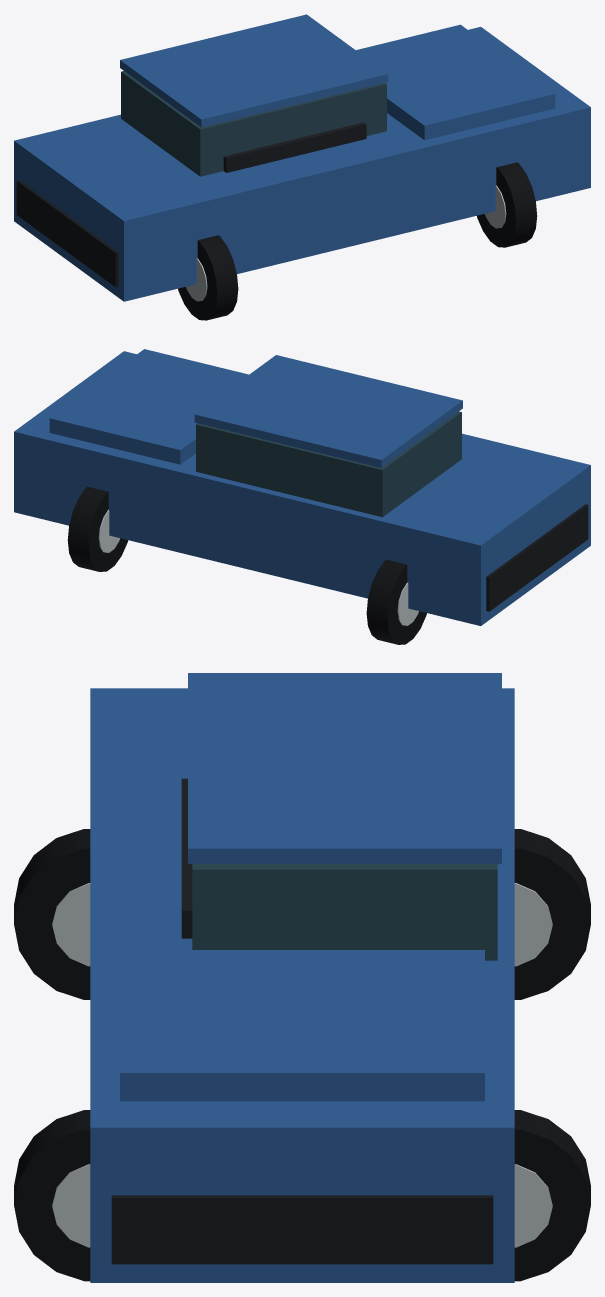
File: ford_bronco.glb
The picture shows the model from 3 angles, top to bottom: view 1: azimuth 30°, elevation 25°; view 2: azimuth 150°, elevation 25°; view 3: azimuth 270°, elevation 25°; orthographic projection. The views are drawn at different scales.
Visible parts, largest first — view 1: body, roof, hood, cabin, rear_bumper, rear_right_wheel, front_right_wheel, interior; view 2: body, roof, cabin, hood, rear_bumper, rear_left_wheel, front_left_wheel; view 3: body, roof, hood, front_bumper, cabin, front_left_wheel, front_right_wheel, rear_left_wheel, rear_right_wheel, interior.
Boxes of the visible parts, x1,y1,x2,y2 form: body: (14, 27, 590, 301); roof: (120, 14, 388, 127); hood: (356, 24, 555, 140); cabin: (121, 71, 386, 176); rear_bumper: (16, 180, 118, 287); rear_right_wheel: (178, 235, 238, 320); front_right_wheel: (477, 162, 537, 247); interior: (223, 122, 366, 172); body: (14, 351, 590, 625); roof: (194, 355, 462, 467); cabin: (196, 411, 461, 517); hood: (49, 349, 248, 464); rear_bumper: (486, 504, 588, 611); rear_left_wheel: (366, 559, 426, 644); front_left_wheel: (67, 486, 128, 571); body: (90, 688, 514, 1282); roof: (188, 673, 501, 863); hood: (120, 950, 484, 1101); front_bumper: (111, 1195, 493, 1264); cabin: (192, 864, 497, 960); front_left_wheel: (514, 1110, 590, 1281); front_right_wheel: (14, 1110, 90, 1281); rear_left_wheel: (514, 829, 590, 999); rear_right_wheel: (14, 829, 90, 999); interior: (181, 778, 192, 938).
Size of the model in its own units: 4.96 by 1.74 by 2.72.
